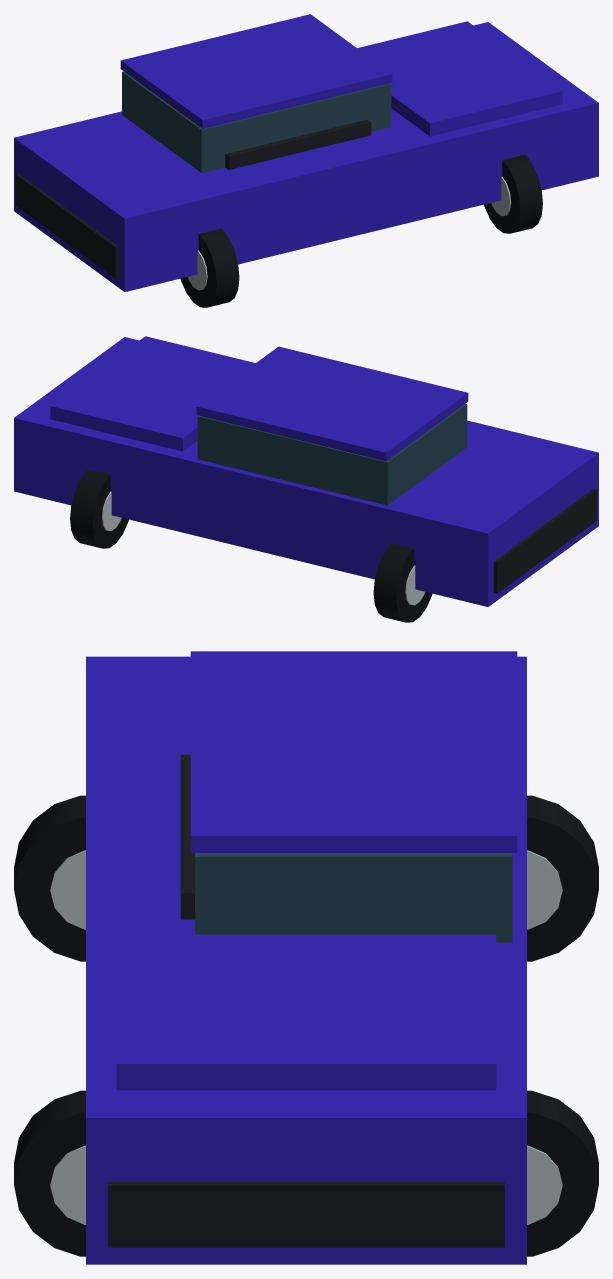
Rendered from ford_fiesta.glb.
3 renders of one model, top to bottom at view 1: azimuth 30°, elevation 25°; view 2: azimuth 150°, elevation 25°; view 3: azimuth 270°, elevation 25°, orthographic. The views are drawn at different scales.
Parts seen in each view (by area): view 1: body, roof, hood, cabin, rear_bumper, rear_right_wheel, front_right_wheel, interior; view 2: body, roof, hood, cabin, rear_bumper, rear_left_wheel, front_left_wheel; view 3: body, roof, hood, cabin, front_bumper, rear_left_wheel, rear_right_wheel, front_left_wheel, front_right_wheel, interior.
Part boxes in pixels (x1=…): body: x1=14, y1=22, x2=598, y2=291; roof: x1=120, y1=14, x2=392, y2=128; hood: x1=357, y1=21, x2=562, y2=136; cabin: x1=122, y1=71, x2=391, y2=172; rear_bumper: x1=16, y1=174, x2=119, y2=278; rear_right_wheel: x1=180, y1=228, x2=239, y2=307; front_right_wheel: x1=484, y1=154, x2=542, y2=233; interior: x1=225, y1=119, x2=371, y2=169; body: x1=14, y1=337, x2=598, y2=606; roof: x1=196, y1=346, x2=468, y2=461; hood: x1=50, y1=336, x2=255, y2=451; cabin: x1=197, y1=403, x2=467, y2=505; rear_bumper: x1=493, y1=489, x2=596, y2=593; rear_left_wheel: x1=373, y1=543, x2=432, y2=622; front_left_wheel: x1=70, y1=469, x2=128, y2=548; body: x1=86, y1=656, x2=526, y2=1264; roof: x1=190, y1=651, x2=517, y2=852; hood: x1=116, y1=934, x2=496, y2=1090; cabin: x1=195, y1=853, x2=512, y2=942; front_bumper: x1=108, y1=1182, x2=504, y2=1247; rear_left_wheel: x1=527, y1=795, x2=598, y2=961; rear_right_wheel: x1=14, y1=795, x2=85, y2=961; front_left_wheel: x1=527, y1=1090, x2=598, y2=1256; front_right_wheel: x1=14, y1=1090, x2=85, y2=1256; interior: x1=180, y1=754, x2=194, y2=919.
Bounding box in the file's own units: 4.67 × 1.48 × 2.47.
